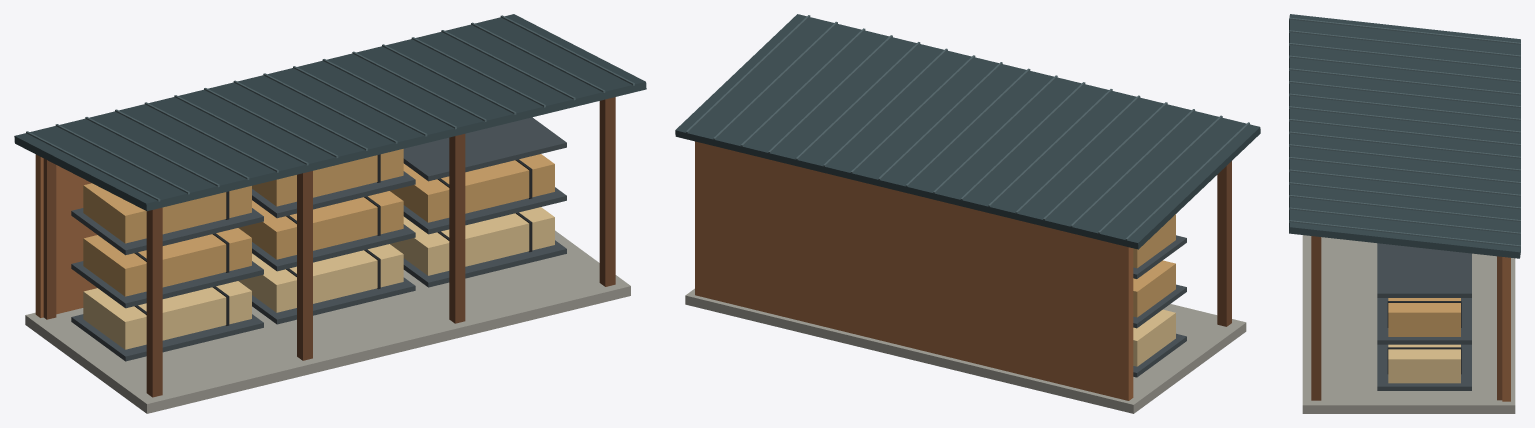
The model's file is lumber_shed.glb.
3 renders of one model, left to right at view 1: azimuth 30°, elevation 25°; view 2: azimuth 150°, elevation 25°; view 3: azimuth 270°, elevation 25°, orthographic. The views are drawn at different scales.
Visible parts, largest first — view 1: lumber_shed; view 2: lumber_shed; view 3: lumber_shed.
Boxes of the visible parts, x1,y1,x2,y2 form: lumber_shed: (14,14,646,413); lumber_shed: (675,14,1260,413); lumber_shed: (1289,14,1520,413).
Size of the model in its own units: 12.8 by 5.36 by 5.88.
